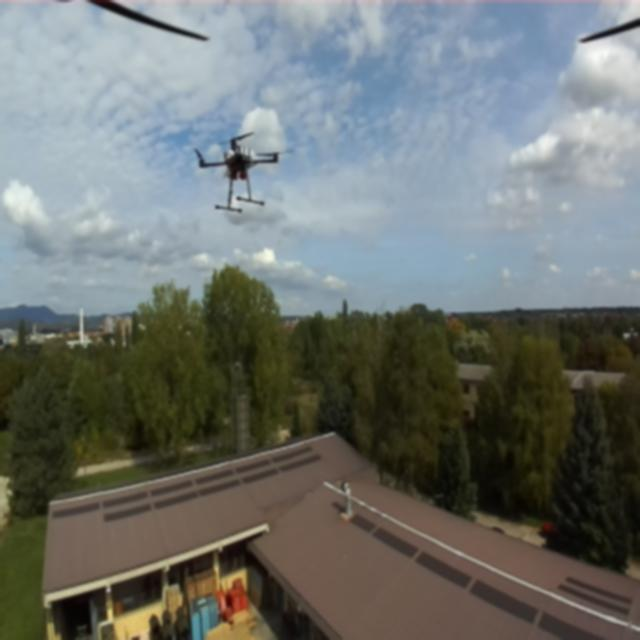UAV: (194, 130, 296, 217)
